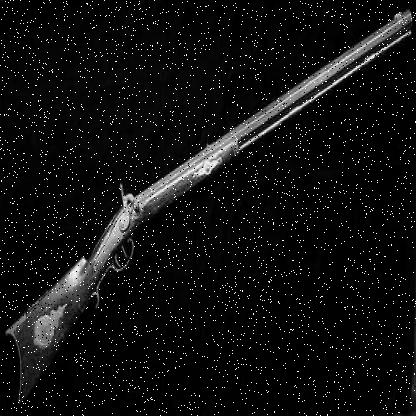rifle: (0, 1, 413, 413)
